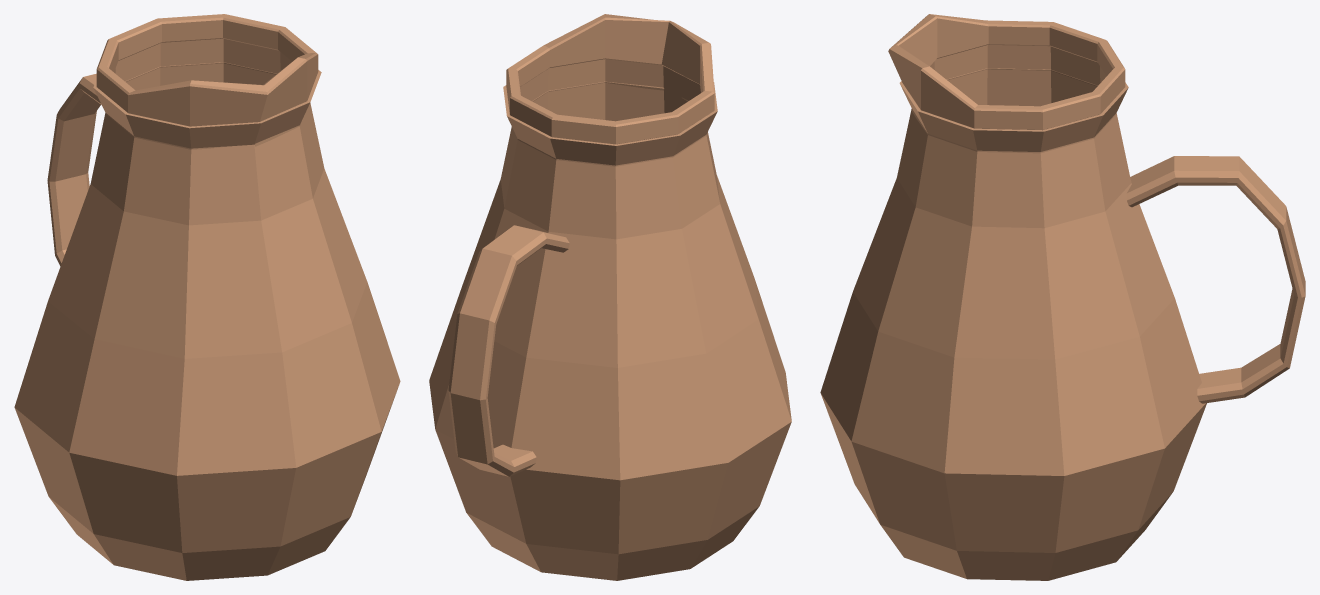
Rendered from Milkjar1.glb.
The picture shows the model from 3 angles, left to right: view 1: azimuth 30°, elevation 25°; view 2: azimuth 150°, elevation 25°; view 3: azimuth 270°, elevation 25°; orthographic projection. The views are drawn at different scales.
Parts seen in each view (by area): view 1: MilkJar1; view 2: MilkJar1; view 3: MilkJar1.
Boxes of the visible parts, box(x1,y1,x2,y2) form: MilkJar1: box(14, 14, 400, 580); MilkJar1: box(429, 14, 791, 580); MilkJar1: box(820, 14, 1305, 580).
Size of the model in its own units: 0.3433 by 0.4894 by 0.4444.
